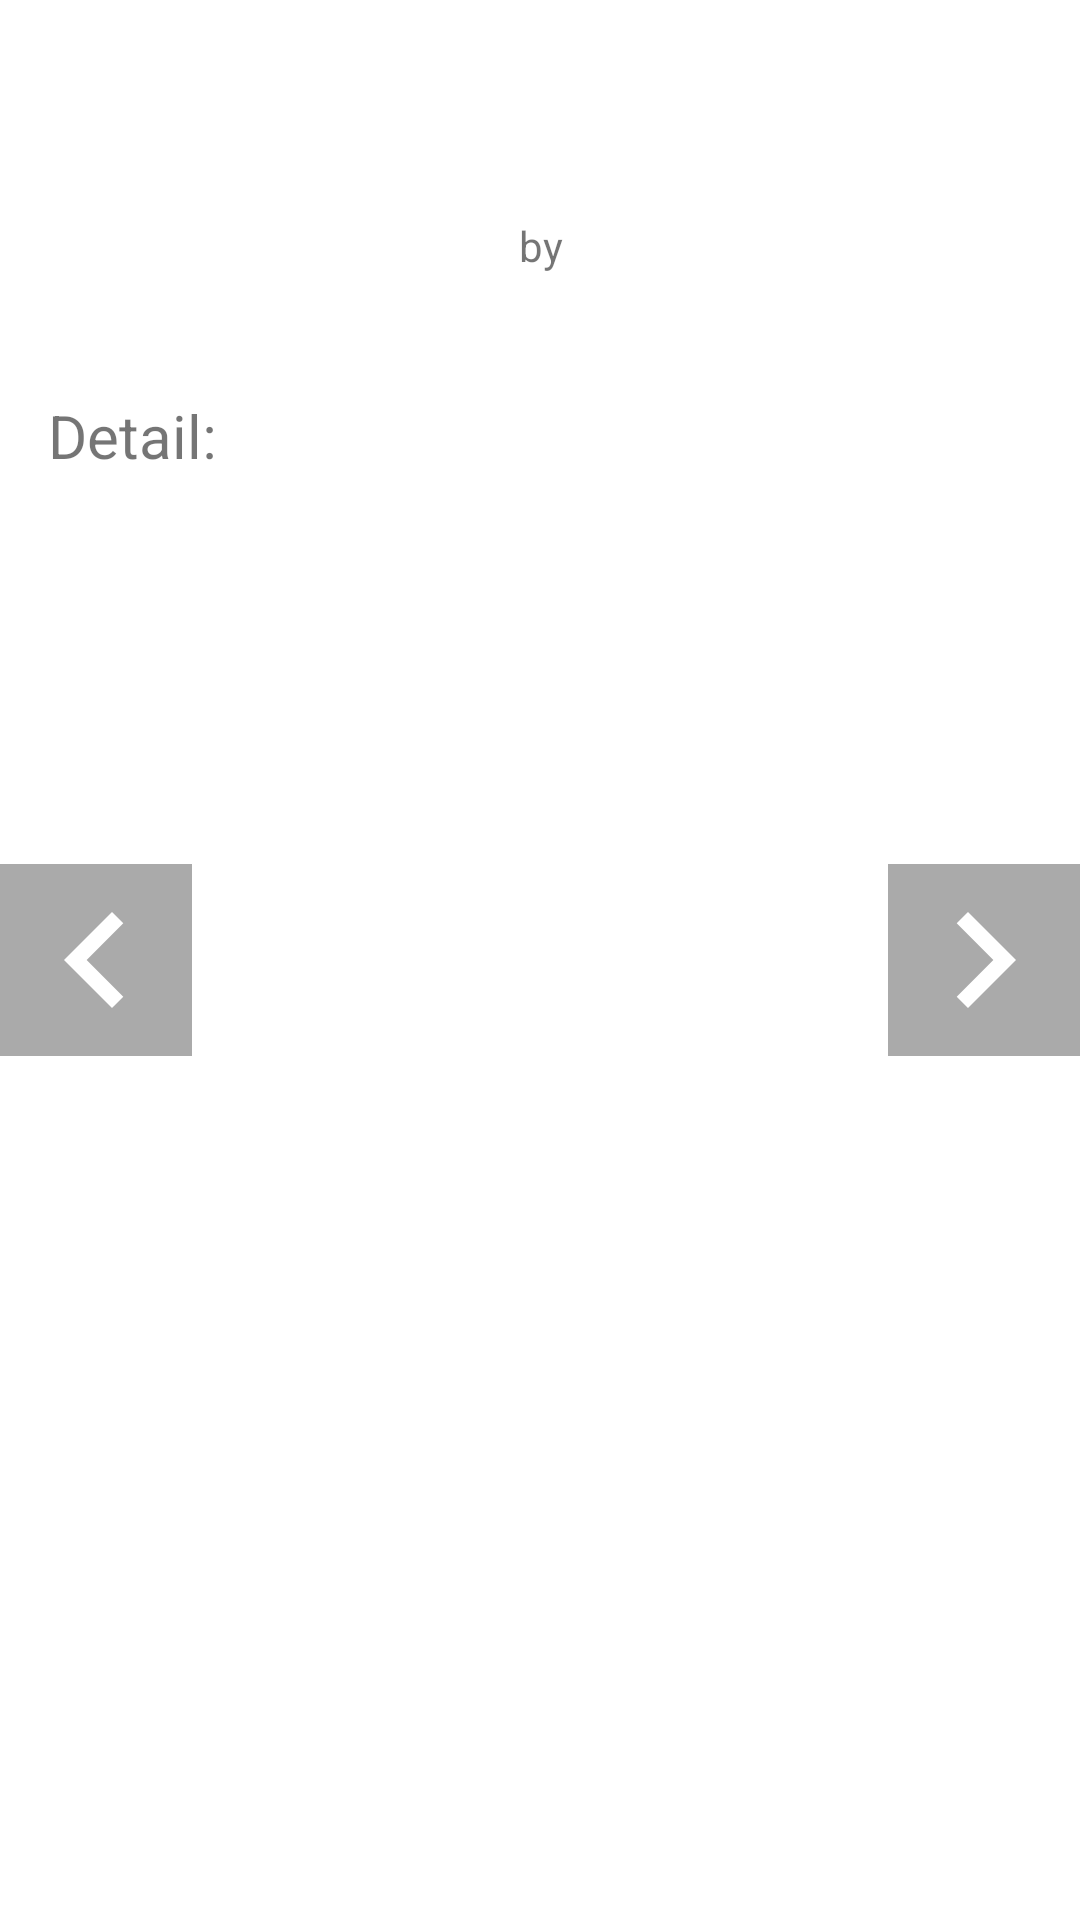

Locate icon controls on the screen. Image size 1080px x 1920px, boxes as (x1, y1, x2, y2).
chevron left: (0, 864, 192, 1056)
chevron right: (888, 864, 1080, 1056)
